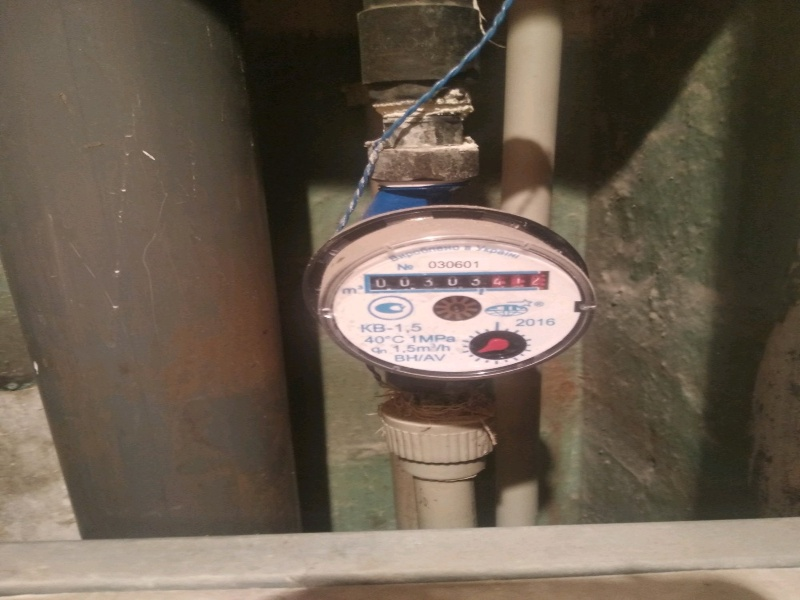meter: (363, 270, 558, 292)
